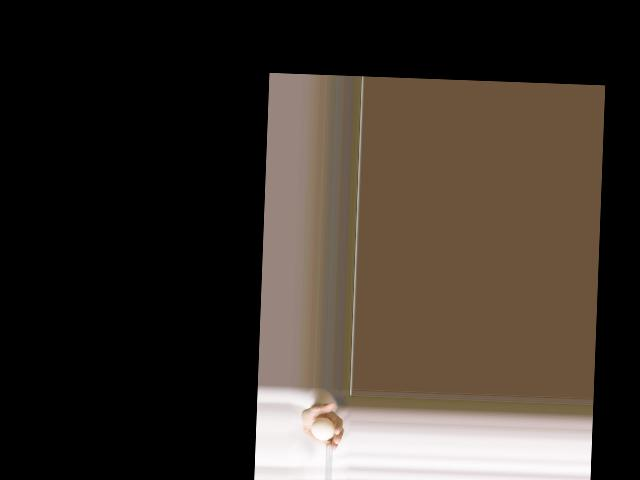egg: (311, 417, 335, 441)
